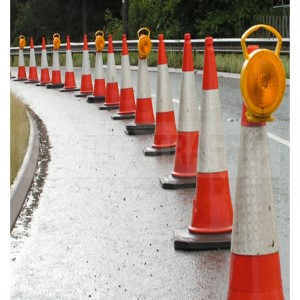traffic cone: (174, 37, 249, 251), (227, 44, 285, 300), (159, 33, 219, 190), (143, 33, 188, 158), (125, 34, 163, 137), (111, 33, 139, 120), (98, 33, 123, 110), (87, 35, 107, 104), (75, 33, 94, 98), (60, 34, 79, 91), (46, 40, 63, 89), (36, 36, 52, 86), (24, 39, 40, 84), (13, 38, 29, 81)
